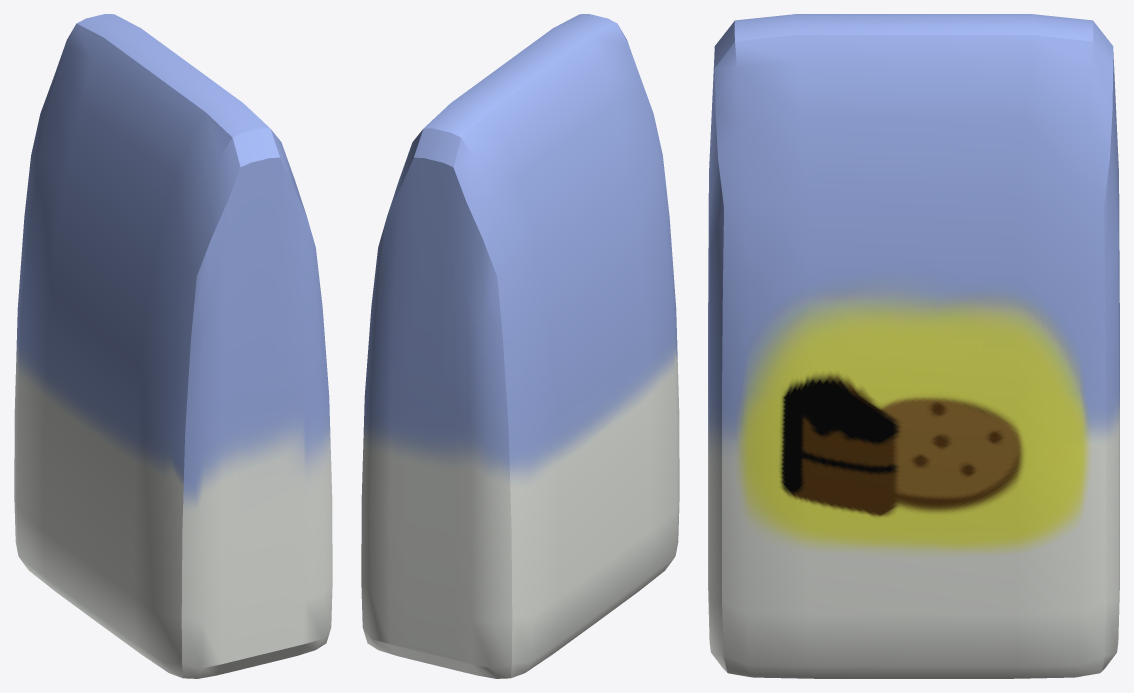
Rendered from Flour.fbx.
3 views of the same model, side by side, from view 1: azimuth 30°, elevation 25°; view 2: azimuth 150°, elevation 25°; view 3: azimuth 270°, elevation 25° (orthographic). The views are drawn at different scales.
Parts seen in each view (by area): view 1: Flour; view 2: Flour; view 3: Flour.
Part boxes in pixels (x1,y1,x2,y2): Flour: [14, 14, 332, 678]; Flour: [361, 14, 679, 678]; Flour: [708, 14, 1119, 678].
Bounding box in the file's own units: 109 × 334 × 200.
